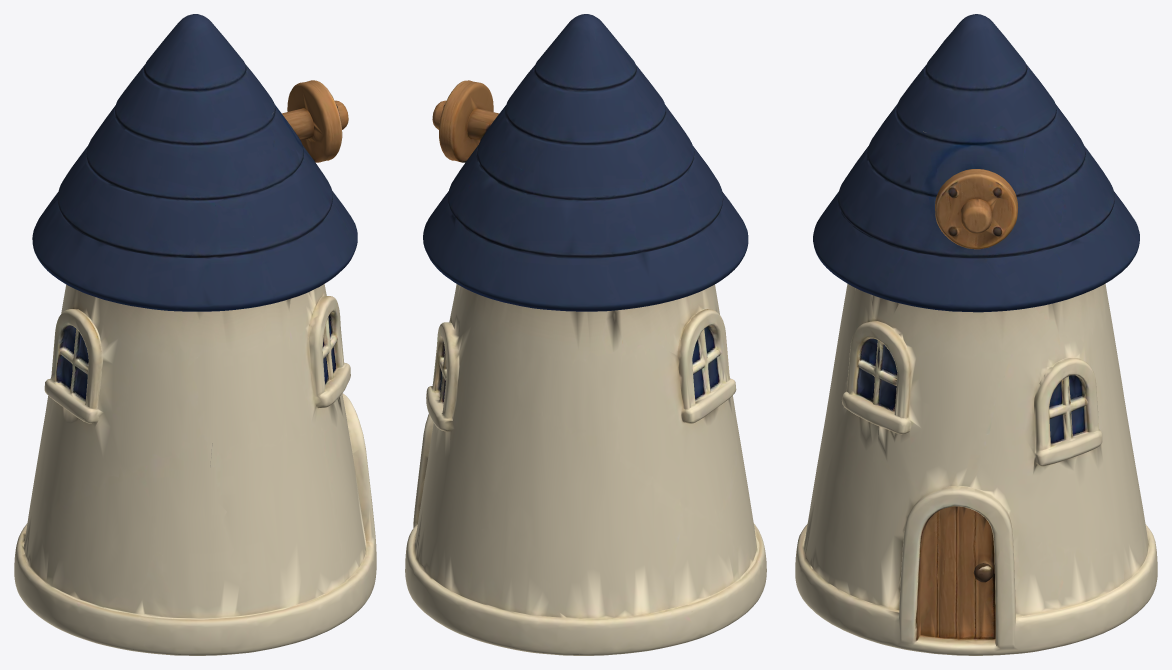
File: windmill.glb
The picture shows the model from 3 angles, left to right: view 1: azimuth 30°, elevation 25°; view 2: azimuth 150°, elevation 25°; view 3: azimuth 270°, elevation 25°; orthographic projection.
Parts seen in each view (by area): view 1: tripo_node_48a507be-a4c8-4e04-84c4-ca22af65b79c; view 2: tripo_node_48a507be-a4c8-4e04-84c4-ca22af65b79c; view 3: tripo_node_48a507be-a4c8-4e04-84c4-ca22af65b79c.
Part boxes in pixels (bbox=[...]): tripo_node_48a507be-a4c8-4e04-84c4-ca22af65b79c: bbox=[14, 14, 376, 655]; tripo_node_48a507be-a4c8-4e04-84c4-ca22af65b79c: bbox=[405, 14, 766, 655]; tripo_node_48a507be-a4c8-4e04-84c4-ca22af65b79c: bbox=[795, 14, 1157, 655].
Bounding box in the file's own units: 0.5776 × 1 × 0.5793.
Materials: 1 (1 with a texture image).
